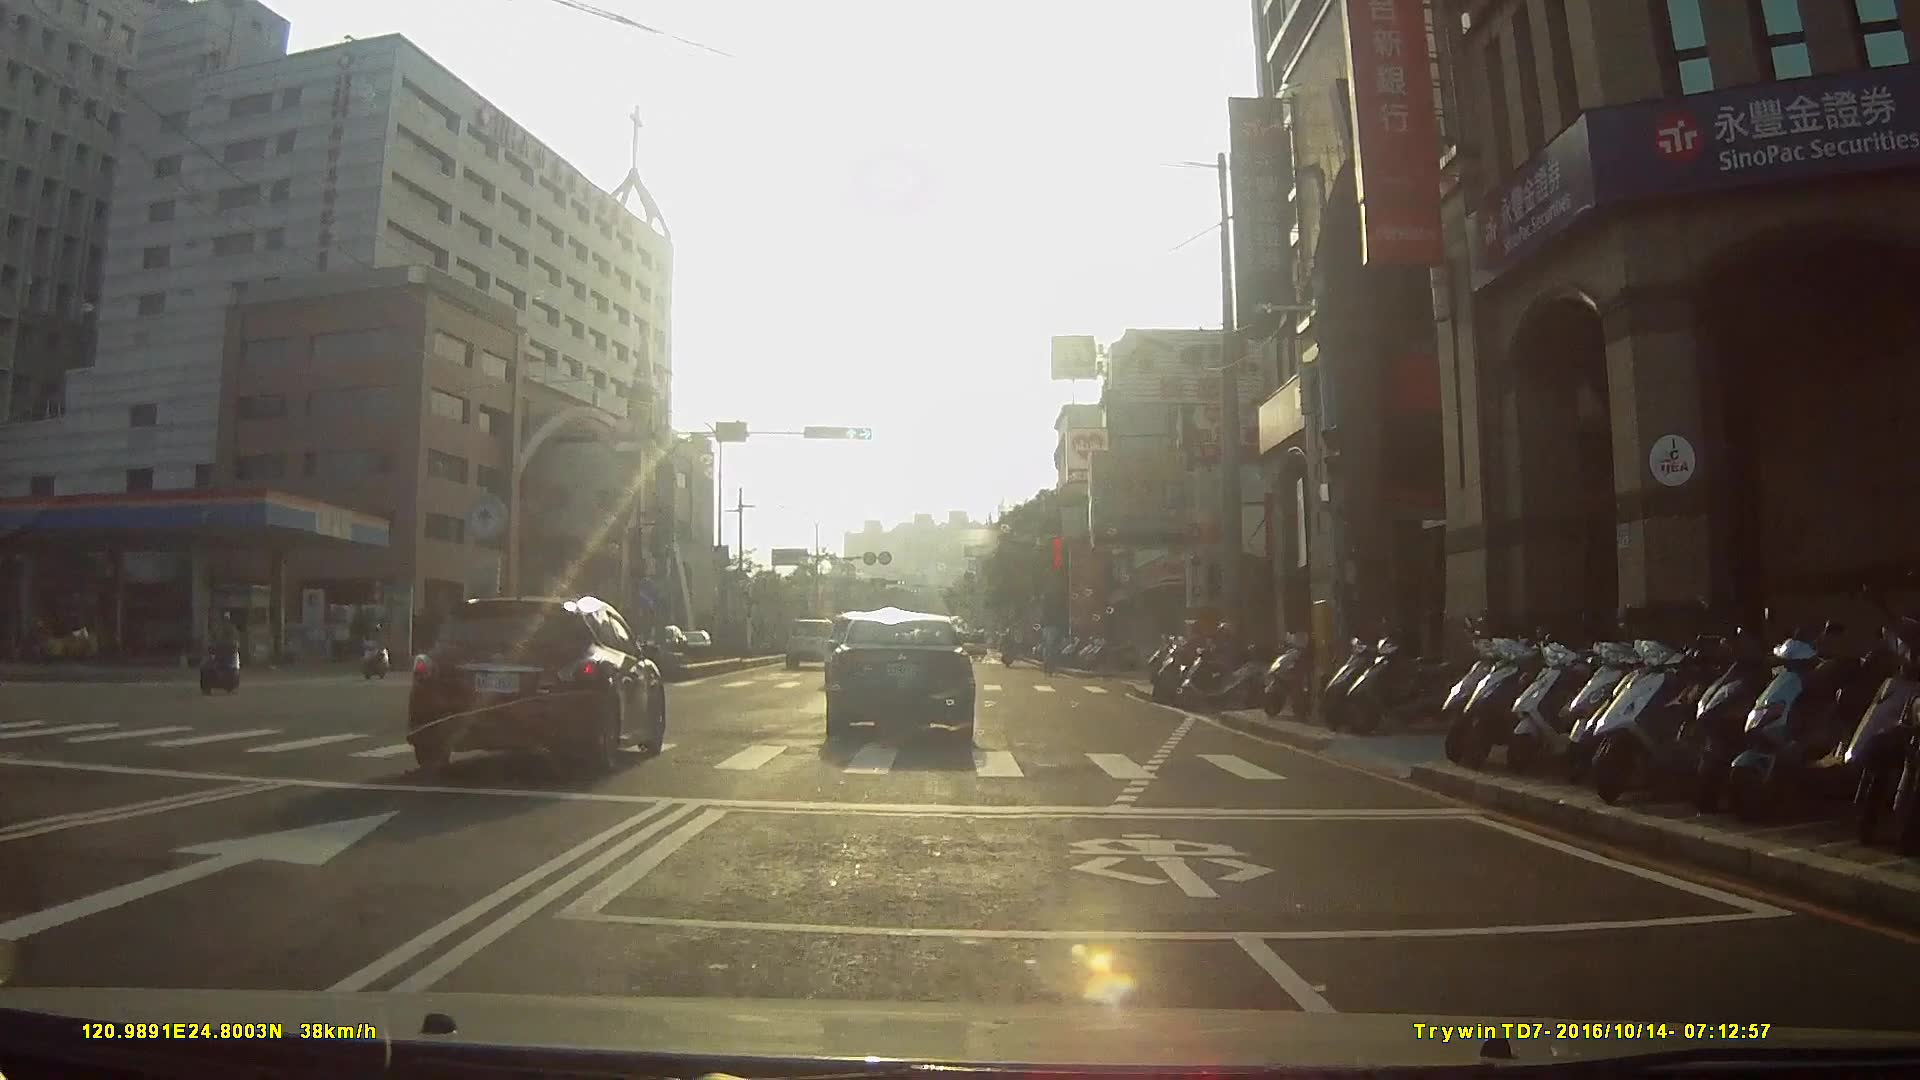rider: (1170, 617, 1272, 713), (200, 610, 248, 696), (365, 623, 393, 679)
vehicle: (400, 582, 680, 780), (821, 605, 989, 749), (785, 611, 844, 666)
